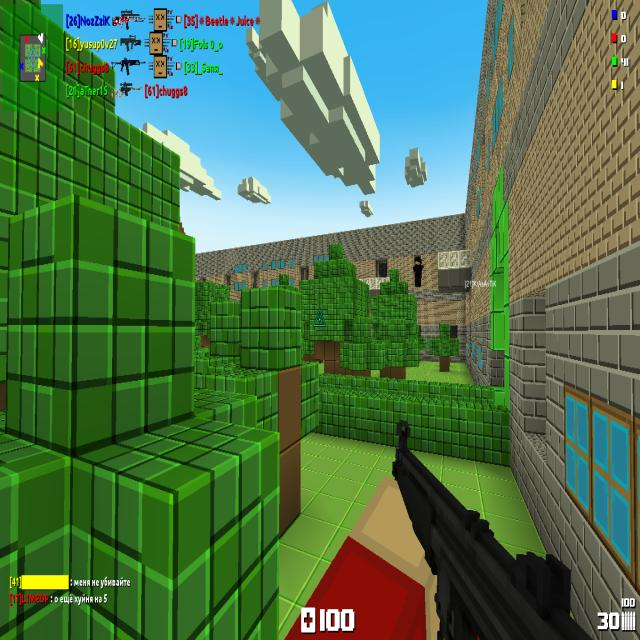enemy: (412, 255, 423, 288)
